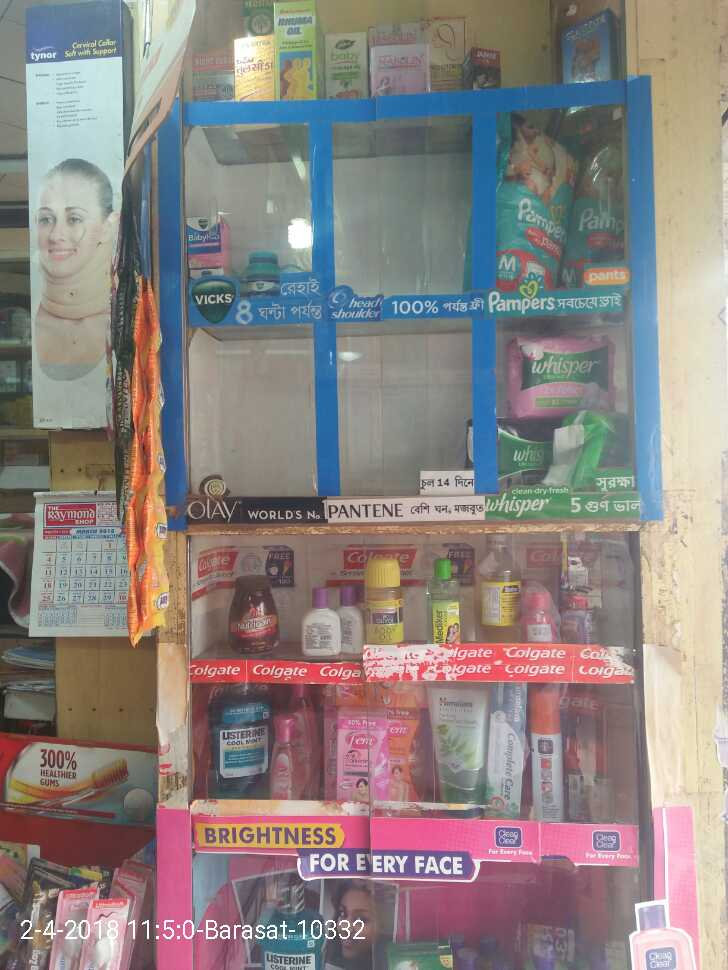vicks: (182, 208, 317, 297)
